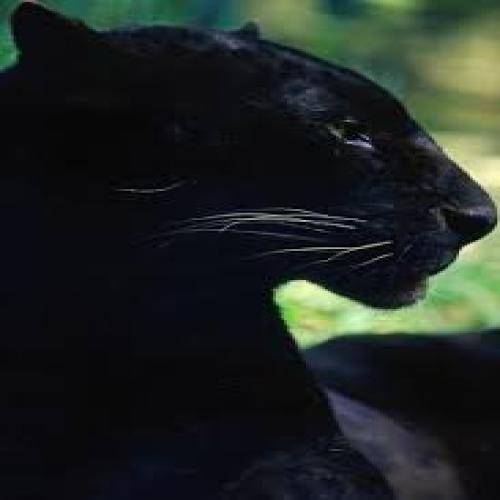panther-endangered: (0, 2, 500, 421)
